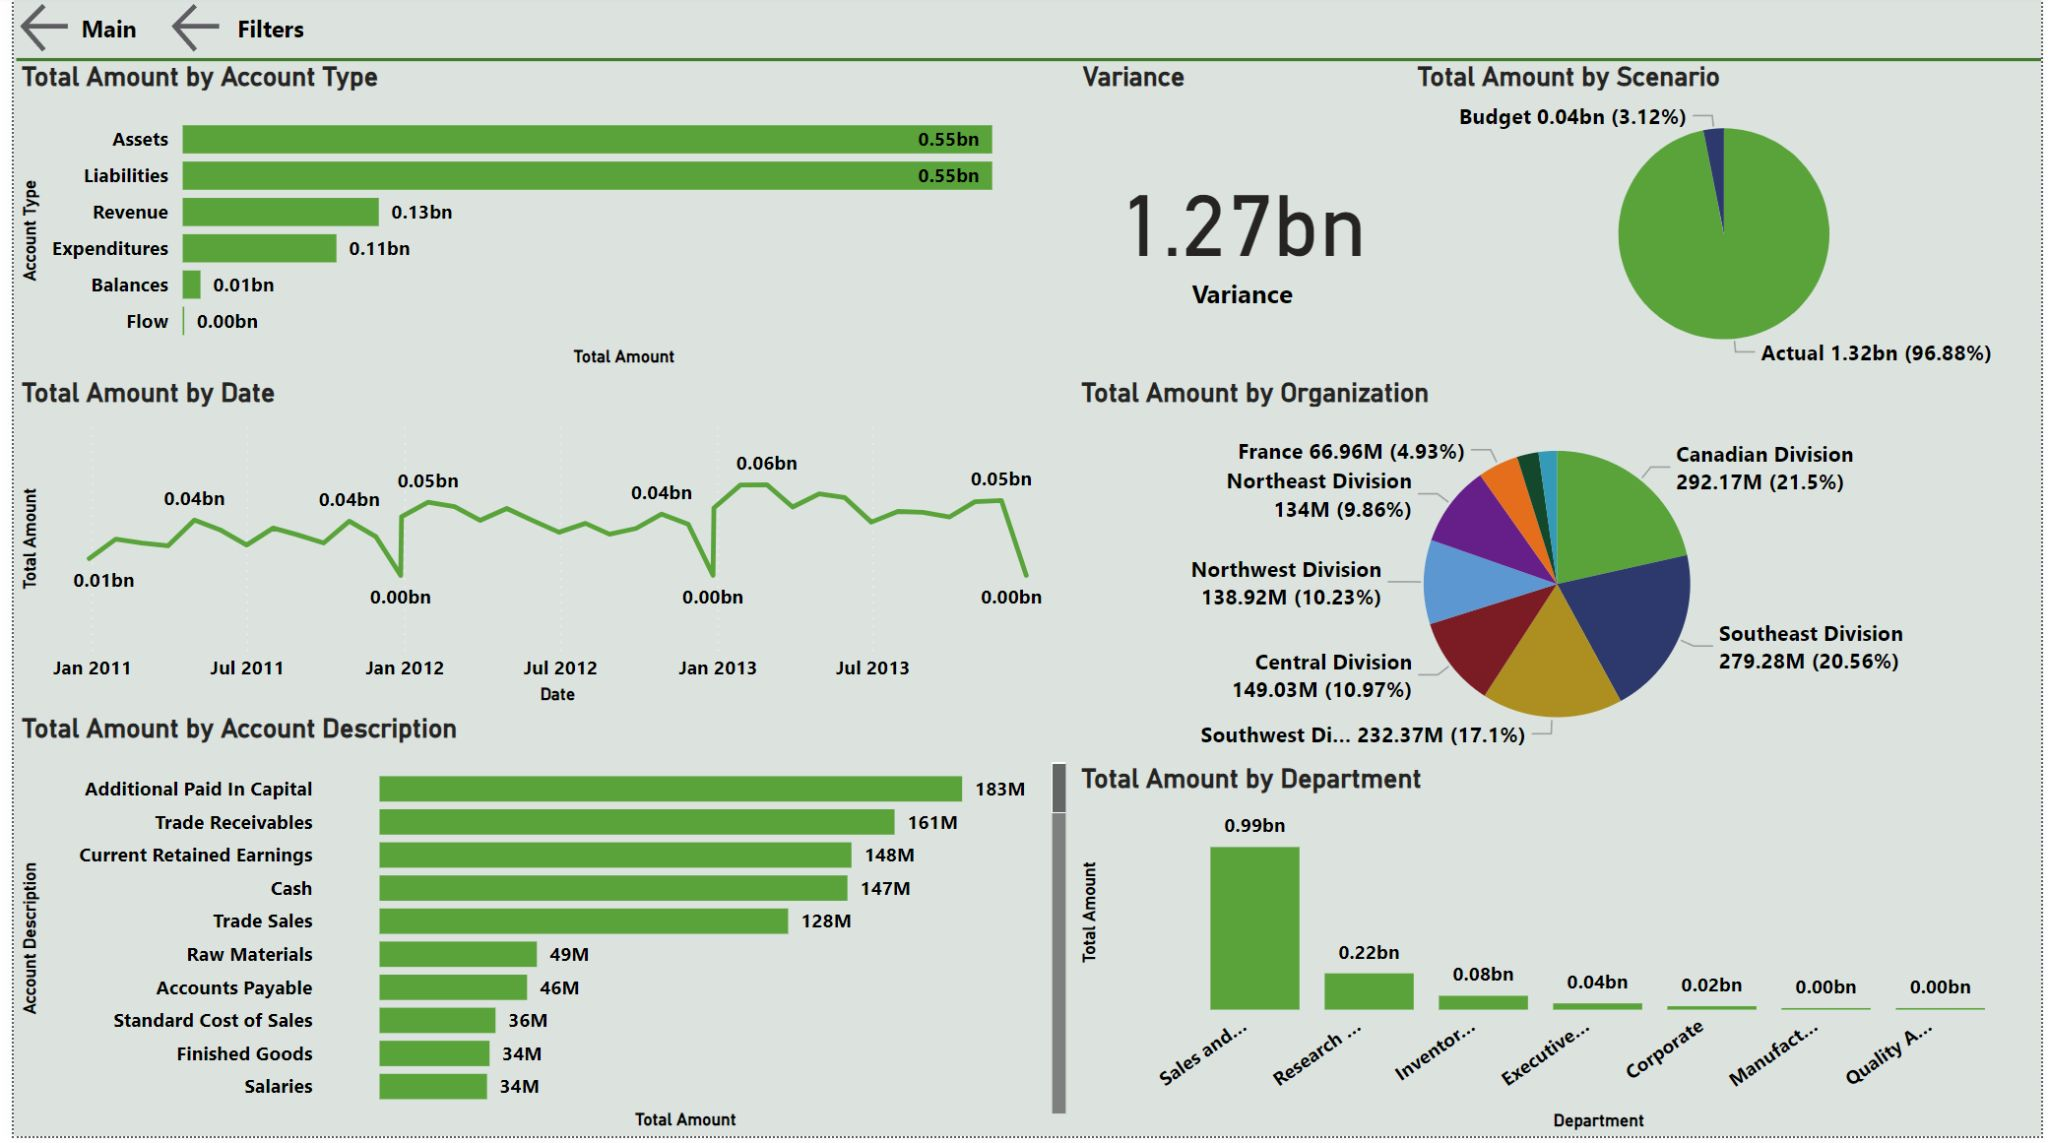

The dashboard page shown, as its layout file describes it:
{"tool":"powerbi","page":{"name":"Charts","canvas":[1280,720],"ordinal":2},"visuals":[{"type":"card","title":"Variance","fields":{"Values":["DimScenario.Variance"]},"box":[669.3,40.1,211.8,198],"z":0},{"type":"pieChart","fields":{"Category":["DimScenario.ScenarioName"],"Y":["Sum(FactFinance.Amount)"]},"box":[881.2,40.1,397.3,200.6],"z":1000},{"type":"clusteredBarChart","fields":{"Category":["DimAccount.AccountType"],"Y":["Sum(FactFinance.Amount)"]},"box":[0,40.2,669.1,198.3],"z":2000},{"type":"pieChart","fields":{"Category":["DimOrganization.OrganizationName"],"Y":["Sum(FactFinance.Amount)"]},"box":[669,240.2,610.8,243.5],"z":3000},{"type":"clusteredBarChart","fields":{"Category":["DimAccount.AccountDescription"],"Y":["Sum(FactFinance.Amount)"]},"box":[0,451.9,668.7,268.3],"z":4000},{"type":"clusteredColumnChart","fields":{"Category":["DimDepartmentGroup.DepartmentGroupName"],"Y":["Sum(FactFinance.Amount)"]},"box":[669,483.6,610.8,236.9],"z":5000},{"type":"shape","box":[1.3,0,1278.5,80.2],"z":13000},{"type":"actionButton","box":[95.3,0,91.5,40.1],"z":14000},{"type":"actionButton","box":[0,0,81.5,40.1],"z":15000},{"type":"lineChart","fields":{"Y":["Sum(FactFinance.Amount)"],"Category":["FactFinance.Date"]},"box":[0,240.1,668.3,211.9],"z":16000}]}

Visuals, with their boxes in screenshot pixels (x1, y1, x2, y2), scaled from the page's 1280x720 canvas onto the 2048x1143 screenshot:
"Variance" card: {"left": 1071, "top": 64, "right": 1410, "bottom": 378}
pieChart - DimScenario.ScenarioName x Sum(FactFinance.Amount): {"left": 1410, "top": 64, "right": 2046, "bottom": 382}
clusteredBarChart - DimAccount.AccountType x Sum(FactFinance.Amount): {"left": 0, "top": 64, "right": 1071, "bottom": 379}
pieChart - DimOrganization.OrganizationName x Sum(FactFinance.Amount): {"left": 1070, "top": 381, "right": 2047, "bottom": 768}
clusteredBarChart - DimAccount.AccountDescription x Sum(FactFinance.Amount): {"left": 0, "top": 717, "right": 1070, "bottom": 1142}
clusteredColumnChart - DimDepartmentGroup.DepartmentGroupName x Sum(FactFinance.Amount): {"left": 1070, "top": 768, "right": 2047, "bottom": 1142}
shape: {"left": 2, "top": 0, "right": 2047, "bottom": 127}
actionButton: {"left": 152, "top": 0, "right": 299, "bottom": 64}
actionButton: {"left": 0, "top": 0, "right": 130, "bottom": 64}
lineChart - Sum(FactFinance.Amount) x FactFinance.Date: {"left": 0, "top": 381, "right": 1069, "bottom": 718}
